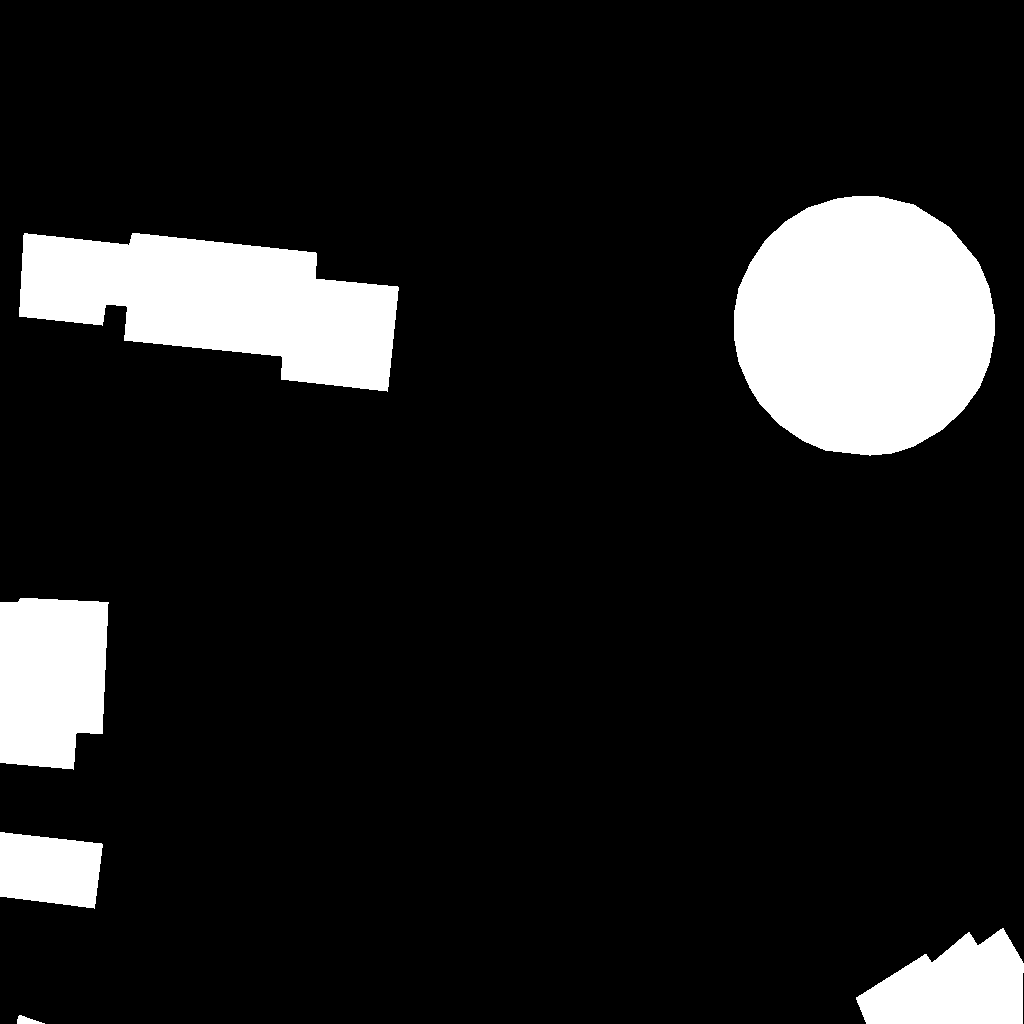building: (734, 196, 995, 456), (19, 233, 400, 392), (0, 598, 109, 770), (856, 928, 1024, 1024), (0, 832, 104, 909), (17, 1015, 46, 1024)
